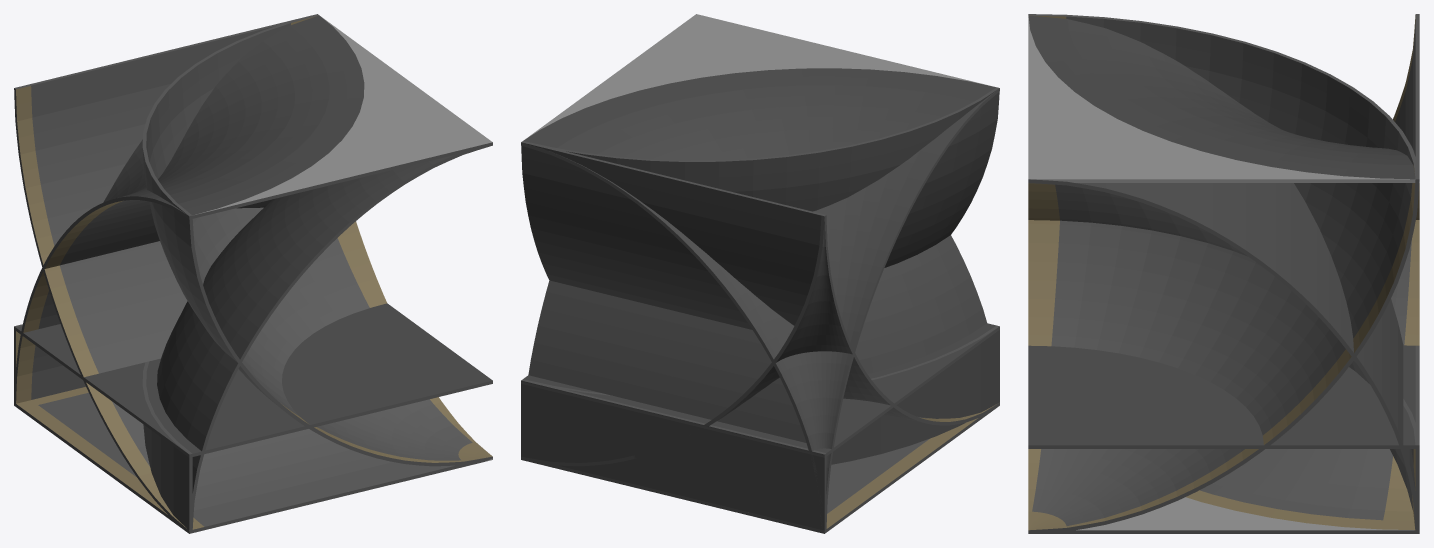
Rendered from wall_track.glb.
3 views of the same model, side by side, from view 1: azimuth 30°, elevation 25°; view 2: azimuth 150°, elevation 25°; view 3: azimuth 270°, elevation 25° (orthographic). The views are drawn at different scales.
Visible parts, largest first — view 1: WallTrackBottom, WallTrackTopInnerCorner, WallTrackBottomCorner, WallTrackCeiling, WallTrackTopCorner, WallTrackTop, WallTrackFloor, WallTrackMiddleCorner, WallTrackBottomInnerCorner; view 2: WallTrackTopInnerCorner, WallTrackBottom, WallTrackTop, WallTrackMiddle, WallTrackBottomCorner, WallTrackTopCorner, WallTrackMiddleCorner, WallTrackCeiling, WallTrackBottomInnerCorner, WallTrackFloor; view 3: WallTrackBottomCorner, WallTrackTopInnerCorner, WallTrackCeiling, WallTrackBottomInnerCorner, WallTrackTop, WallTrackTopCorner, WallTrackBottom, WallTrackFloor, WallTrackMiddleCorner, WallTrackMiddle.
Part boxes in pixels (bbox=[...]): WallTrackBottom: bbox=[14, 14, 454, 529]; WallTrackTopInnerCorner: bbox=[16, 15, 492, 400]; WallTrackBottomCorner: bbox=[142, 15, 492, 466]; WallTrackCeiling: bbox=[16, 303, 492, 457]; WallTrackTopCorner: bbox=[157, 146, 489, 527]; WallTrackTop: bbox=[16, 142, 492, 403]; WallTrackFloor: bbox=[16, 387, 492, 533]; WallTrackMiddleCorner: bbox=[142, 361, 192, 533]; WallTrackBottomInnerCorner: bbox=[14, 89, 492, 529]; WallTrackTopInnerCorner: bbox=[521, 14, 999, 530]; WallTrackBottom: bbox=[521, 141, 996, 421]; WallTrackTop: bbox=[528, 88, 999, 442]; WallTrackMiddle: bbox=[521, 379, 826, 533]; WallTrackBottomCorner: bbox=[528, 87, 999, 267]; WallTrackTopCorner: bbox=[855, 235, 986, 374]; WallTrackMiddleCorner: bbox=[521, 325, 999, 464]; WallTrackCeiling: bbox=[521, 323, 999, 457]; WallTrackBottomInnerCorner: bbox=[521, 215, 996, 466]; WallTrackFloor: bbox=[521, 402, 999, 533]; WallTrackBottomCorner: bbox=[1028, 14, 1415, 530]; WallTrackTopInnerCorner: bbox=[1028, 15, 1419, 219]; WallTrackCeiling: bbox=[1028, 345, 1415, 448]; WallTrackBottomInnerCorner: bbox=[1076, 220, 1419, 530]; WallTrackTop: bbox=[1028, 179, 1415, 489]; WallTrackTopCorner: bbox=[1028, 182, 1419, 533]; WallTrackBottom: bbox=[1028, 14, 1419, 533]; WallTrackFloor: bbox=[1031, 530, 1415, 533]; WallTrackMiddleCorner: bbox=[1403, 399, 1419, 531]; WallTrackMiddle: bbox=[1415, 345, 1419, 445].
Size of the model in its own units: 20 by 20 by 20.
